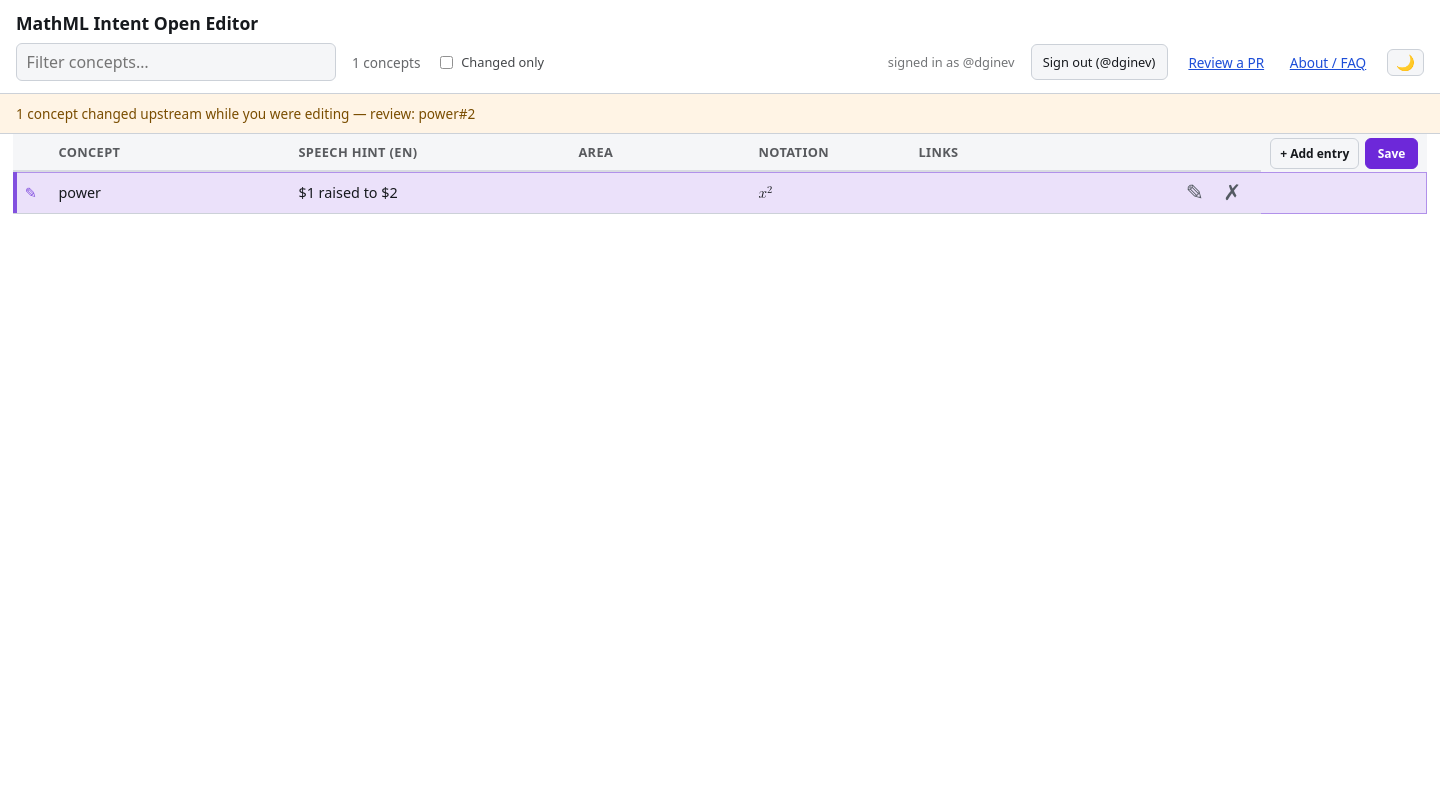
Test case: App (integration: save/branch flow) › submits the batch as a PR: builds the payload + a fresh unique branch, then tracks the PR
Click the button with test id "save-batch": point(1392, 153) [1365,138,1418,169]
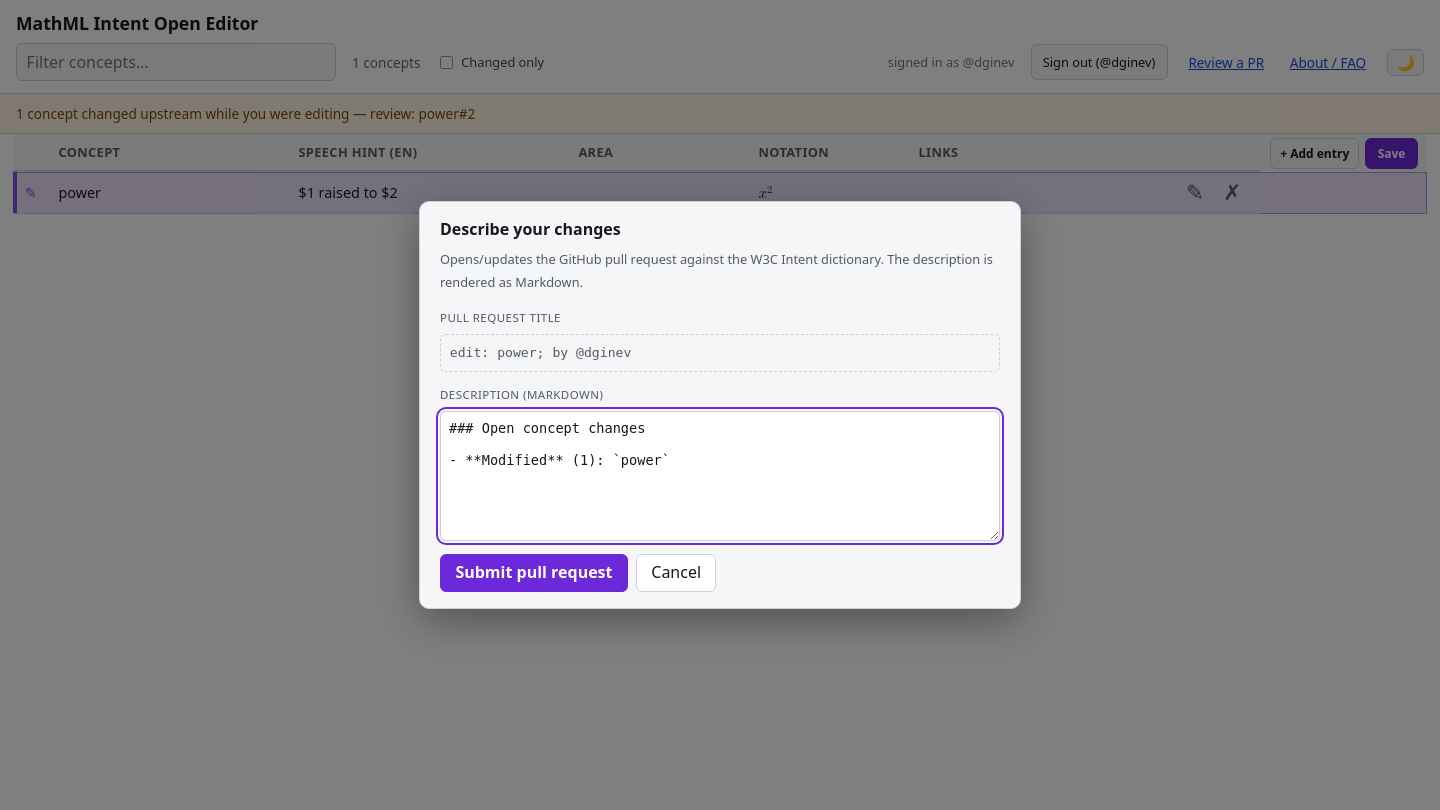
Expected: the button with test id "save-confirm" is enabled
Click the button with test id "save-confirm": point(534, 573) [440,554,628,592]
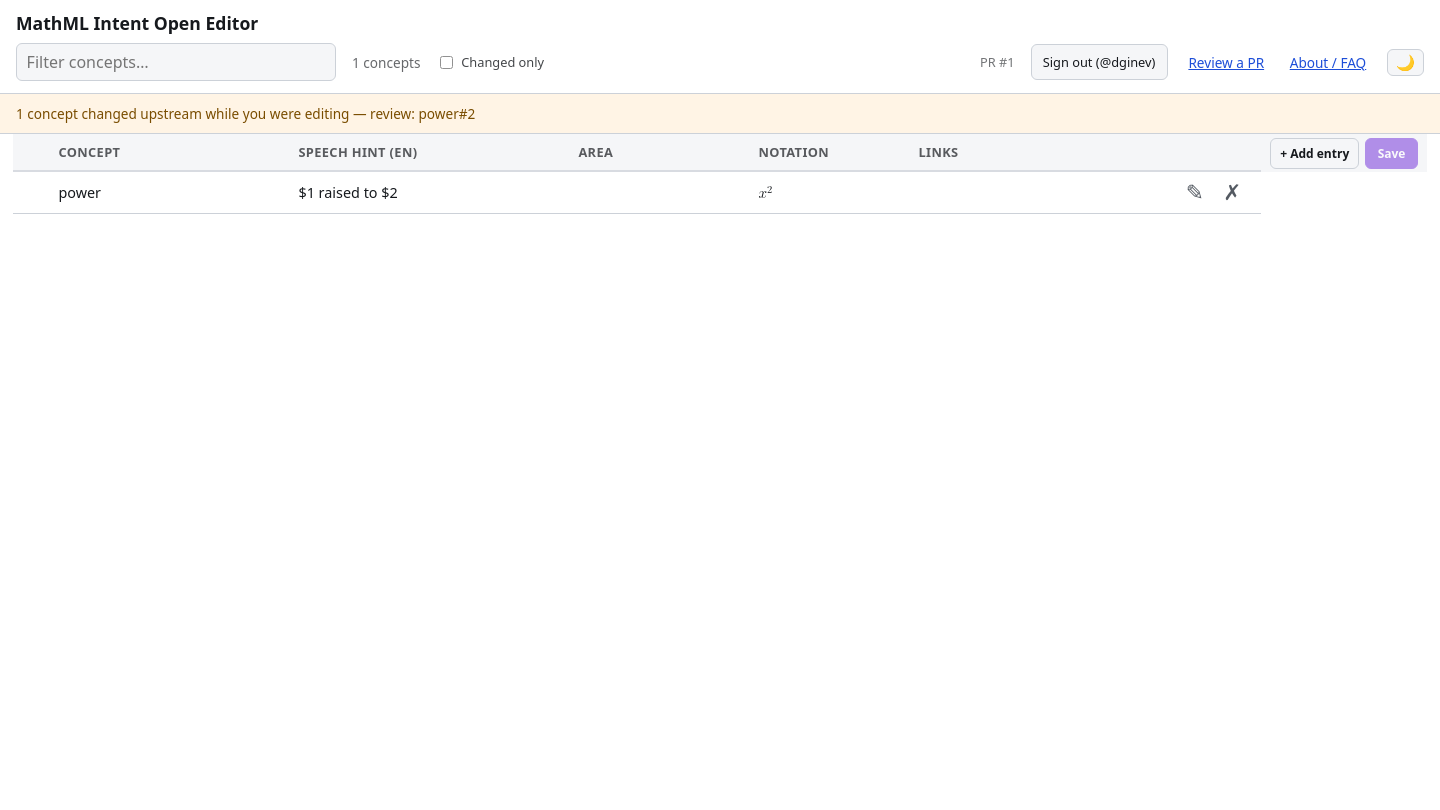
Expected: the text "PR #1" is shown, [980,51,1015,74]
